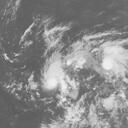cyclone: (40, 45, 117, 95)
